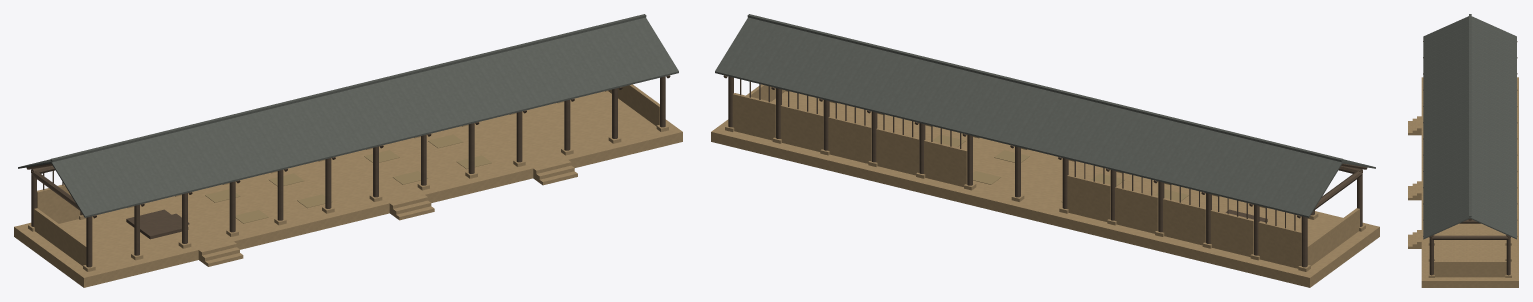
The model's file is taixue-A-LOD1.glb.
3 renders of one model, left to right at view 1: azimuth 30°, elevation 25°; view 2: azimuth 150°, elevation 25°; view 3: azimuth 270°, elevation 25°, orthographic. The views are drawn at different scales.
Visible parts, largest first — view 1: taixue-A-static_tile, taixue-A-static_earth, taixue-A-static_timber, taixue-A-static_fiber; view 2: taixue-A-static_tile, taixue-A-static_earth, taixue-A-static_timber, taixue-A-static_fiber; view 3: taixue-A-static_tile, taixue-A-static_earth, taixue-A-static_timber.
Part boxes in pixels (x1,y1,x2,y2): taixue-A-static_tile: (18,14,678,217); taixue-A-static_earth: (14,84,682,287); taixue-A-static_timber: (26,75,670,267); taixue-A-static_fiber: (205,134,491,223); taixue-A-static_tile: (715,14,1375,217); taixue-A-static_earth: (711,84,1379,287); taixue-A-static_timber: (723,75,1367,267); taixue-A-static_fiber: (932,134,1188,202); taixue-A-static_tile: (1423,14,1516,239); taixue-A-static_earth: (1408,77,1518,287); taixue-A-static_timber: (1423,41,1517,275).
Size of the model in its own units: 37.6 by 6.13 by 8.65.
4 materials, 4 textured.
